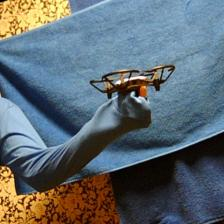drone: (88, 60, 176, 96)
